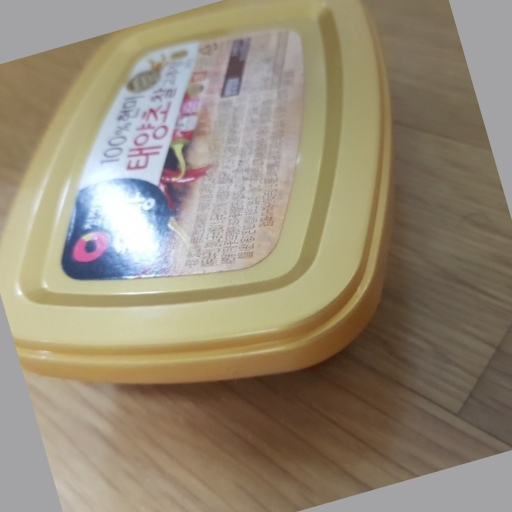Plastic_4: (4, 1, 392, 388)
